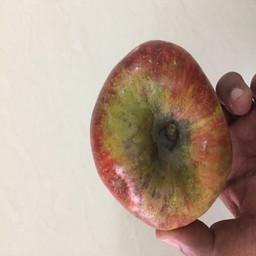Bad_apple: (90, 35, 234, 233)
